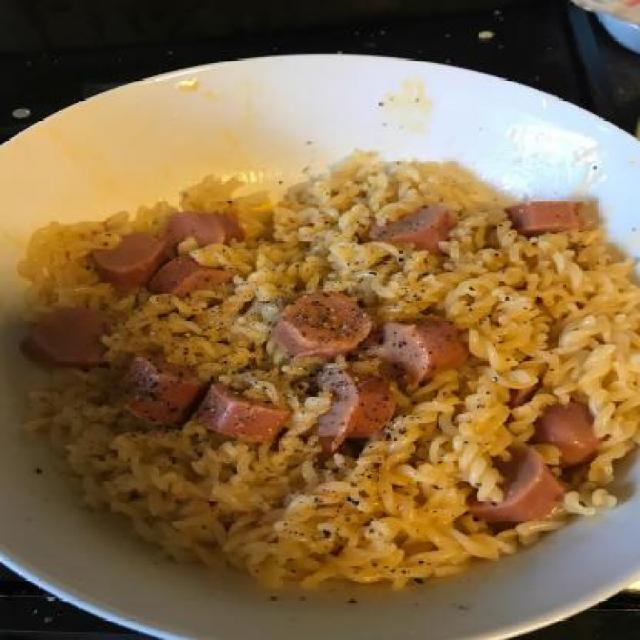hot dog: (20, 293, 462, 442), (462, 394, 598, 535), (87, 199, 247, 307), (374, 185, 586, 252)
macaroni and cheese: (7, 146, 639, 594)
